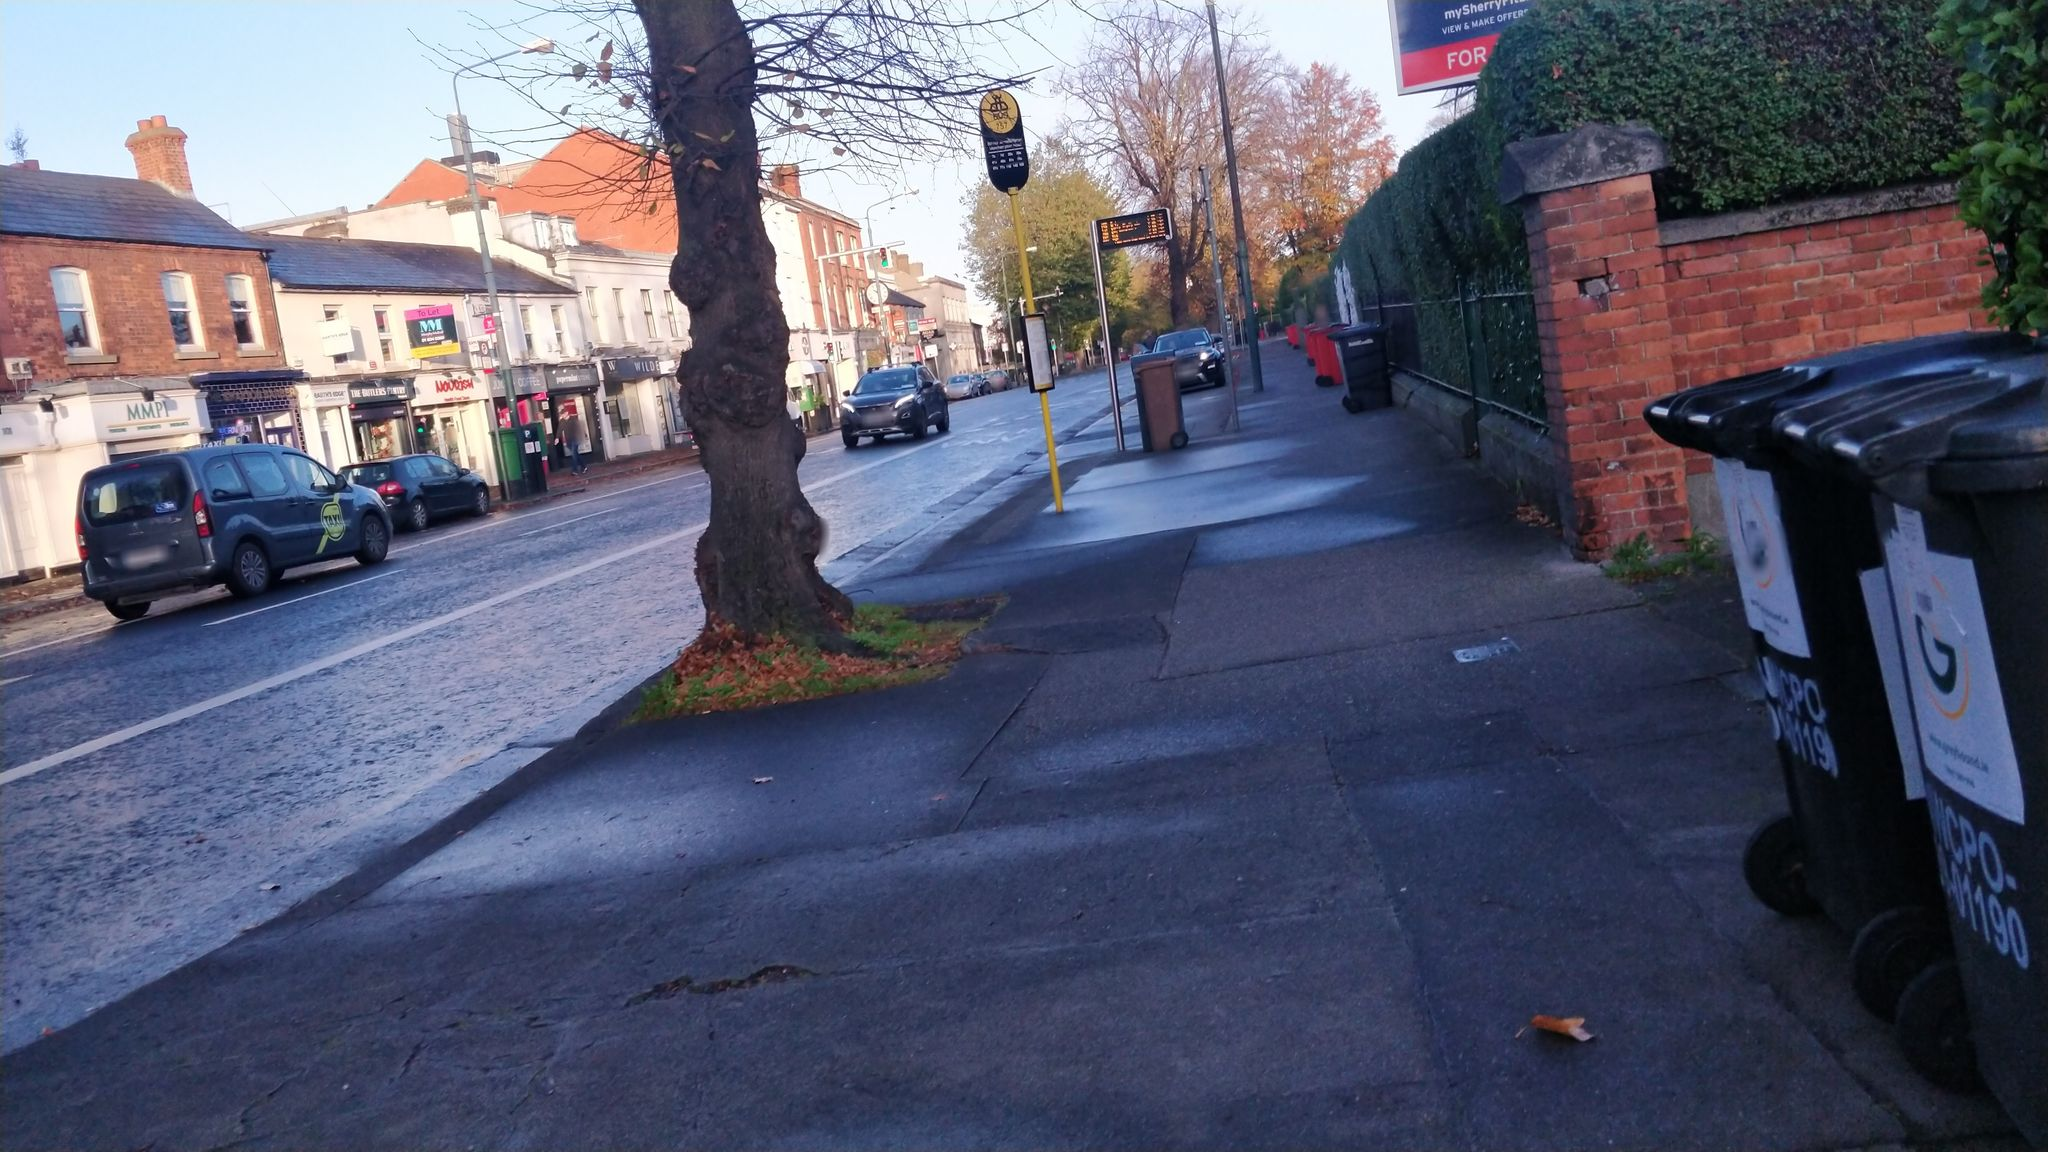property sign: (1369, 1, 1566, 103), (394, 293, 466, 366)
